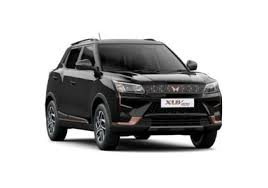XUV 400: (44, 36, 223, 152)
